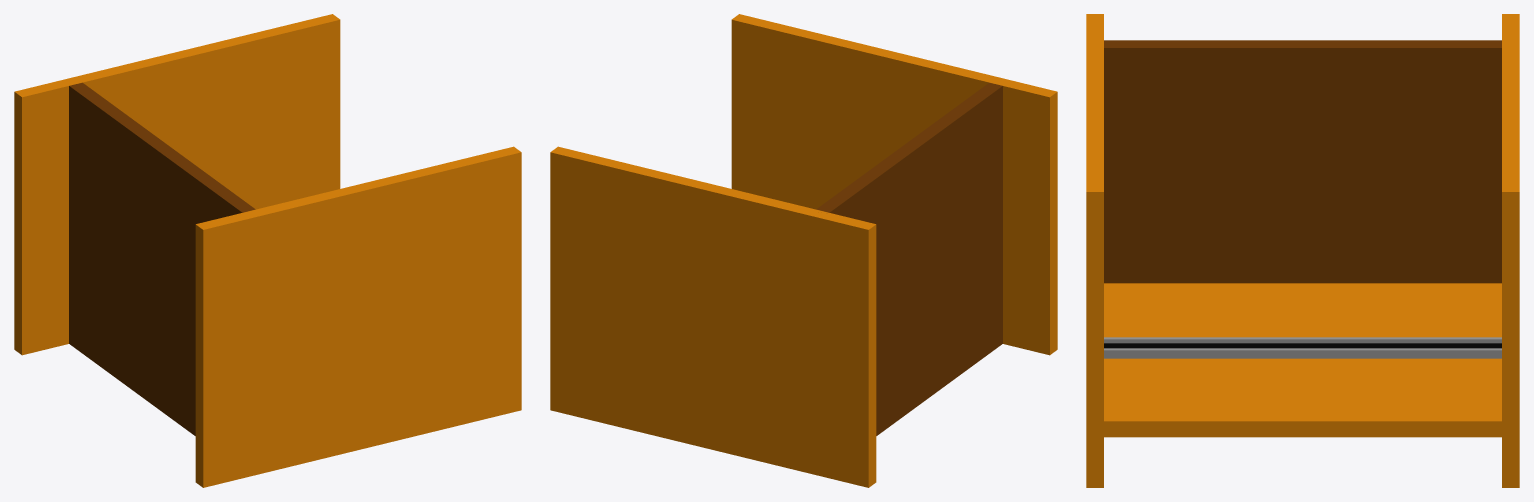
The model's file is shop_meny_stomp_box3.glb.
3 renders of one model, left to right at view 1: azimuth 30°, elevation 25°; view 2: azimuth 150°, elevation 25°; view 3: azimuth 270°, elevation 25°, orthographic. The views are drawn at different scales.
Visible parts, largest first — view 1: Cube.004; view 2: Cube.004; view 3: Cube.004.
Part boxes in pixels (x1,y1,x2,y2): Cube.004: (14, 14, 521, 487); Cube.004: (550, 14, 1057, 487); Cube.004: (1086, 14, 1519, 487).
Size of the model in its own units: 47.44 by 36.74 by 48.76.
